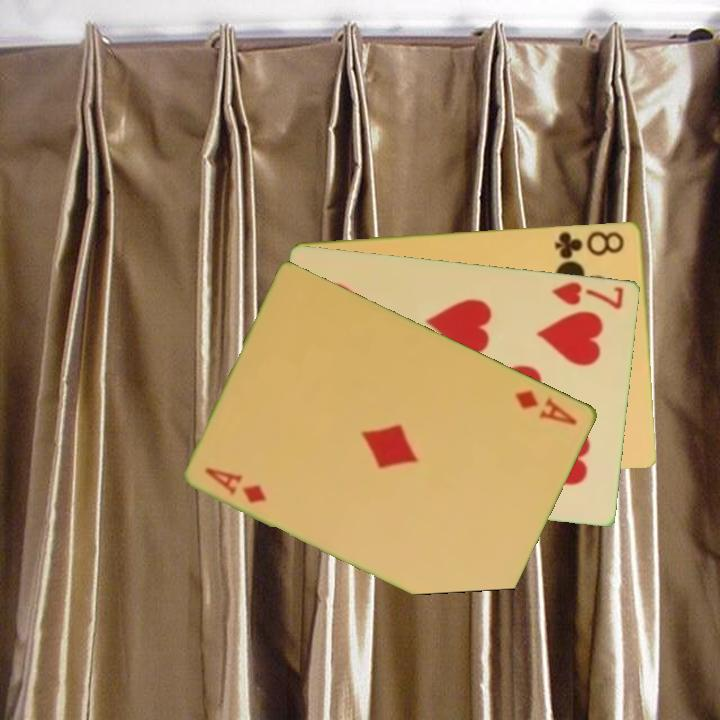7h: (549, 278, 627, 312)
8c: (551, 227, 628, 262)
Ad: (201, 463, 270, 506), (512, 386, 581, 428)
